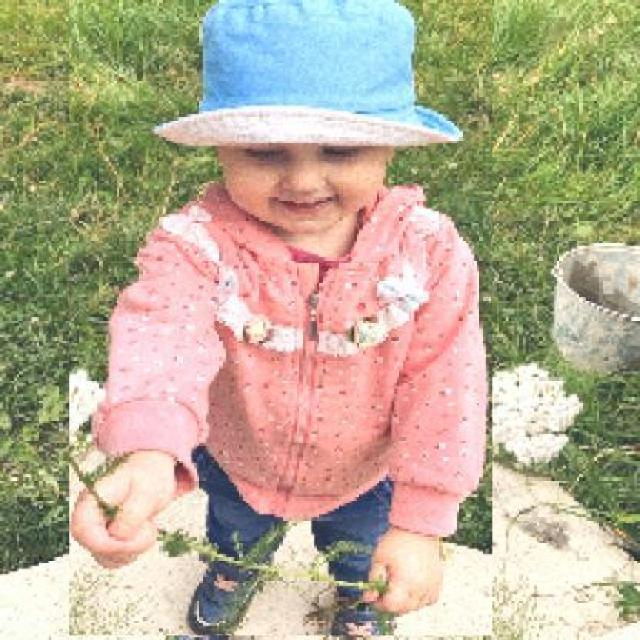child: (68, 0, 492, 637)
